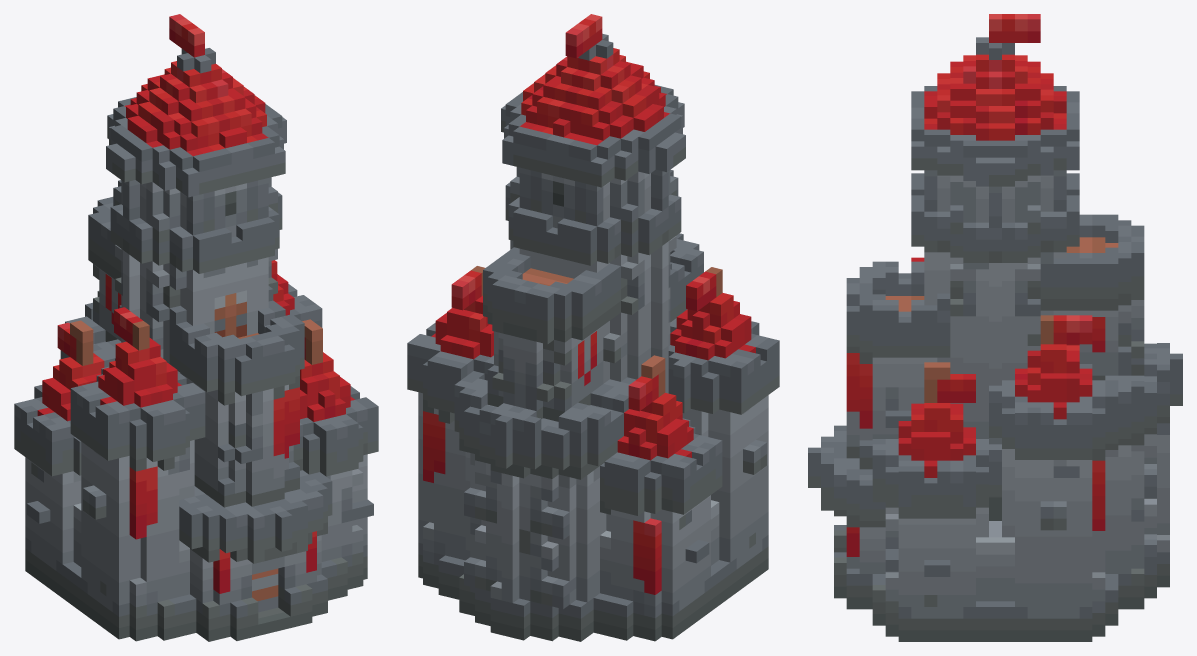
Rendered from building_castle_red.glb.
3 renders of one model, left to right at view 1: azimuth 30°, elevation 25°; view 2: azimuth 150°, elevation 25°; view 3: azimuth 270°, elevation 25°, orthographic. The views are drawn at different scales.
Parts seen in each view (by area): view 1: building_castle_red; view 2: building_castle_red; view 3: building_castle_red.
Boxes of the visible parts, box(x1,y1,x2,y2) form: building_castle_red: box(14, 14, 378, 641); building_castle_red: box(407, 14, 779, 641); building_castle_red: box(808, 14, 1182, 641).
Bounding box in the file's own units: 2.08 × 4 × 2.42.
Materials: 1 (1 with a texture image).
